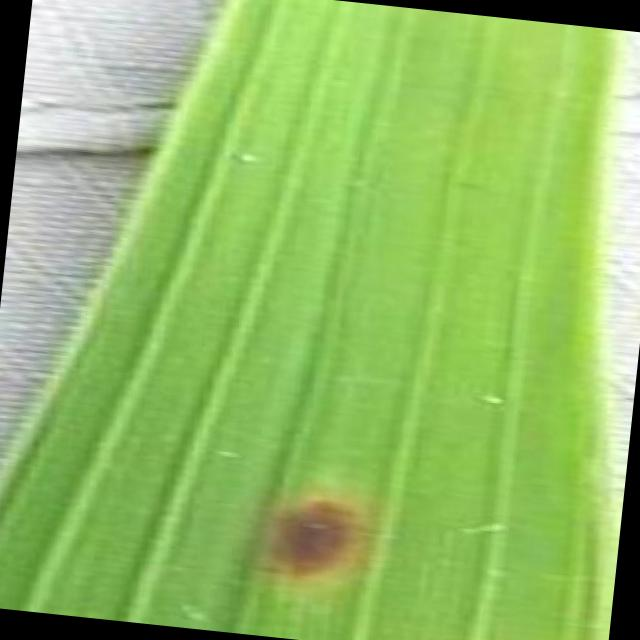Rice_Brownspot: (242, 466, 389, 624)
